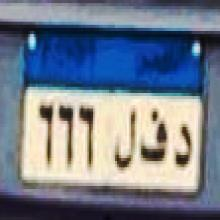6: (56, 100, 75, 176), (78, 100, 96, 174), (37, 99, 54, 169)
daal: (172, 121, 194, 172)
faa: (138, 105, 168, 170)
laam: (113, 100, 136, 178)
